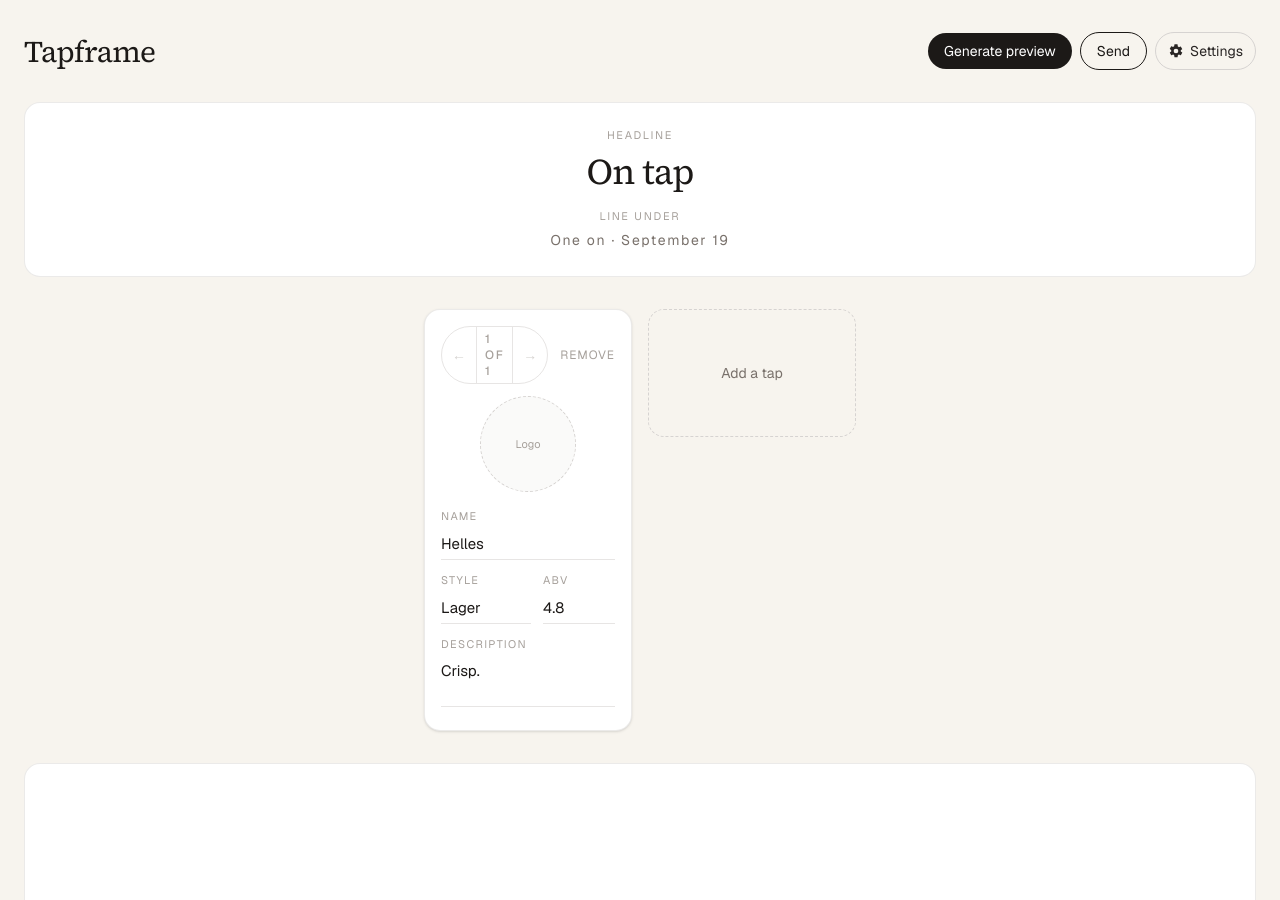
Test: AdminApp › discards display edits if the dialog is cancelled
Click the button "Settings" at [1206, 51], box [1155,32,1256,70]
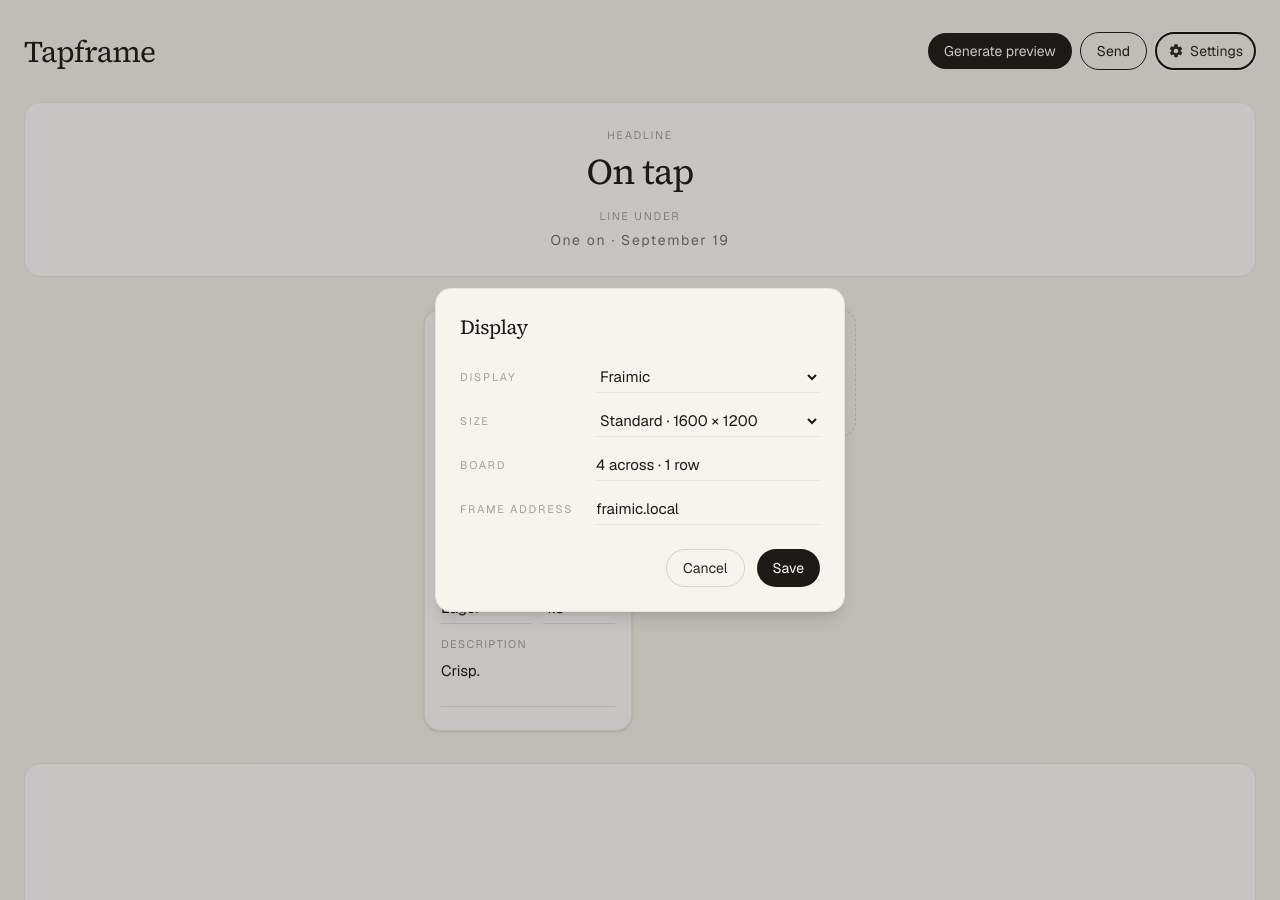
Type "192.168.1.20" into the field named "Frame address" at [708, 509], box [596,493,820,525]
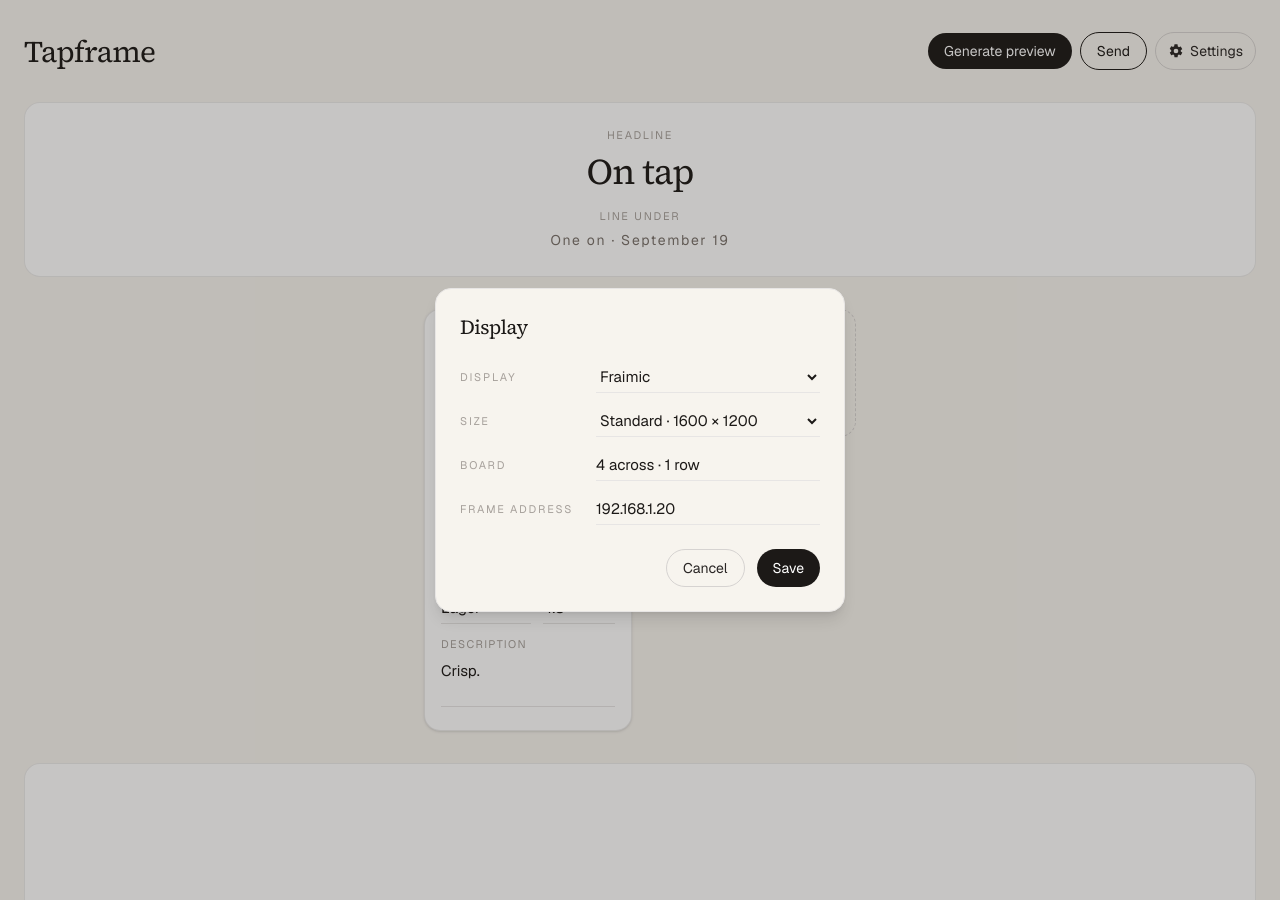
Click the button "Cancel" at [705, 568], box [666,549,744,587]
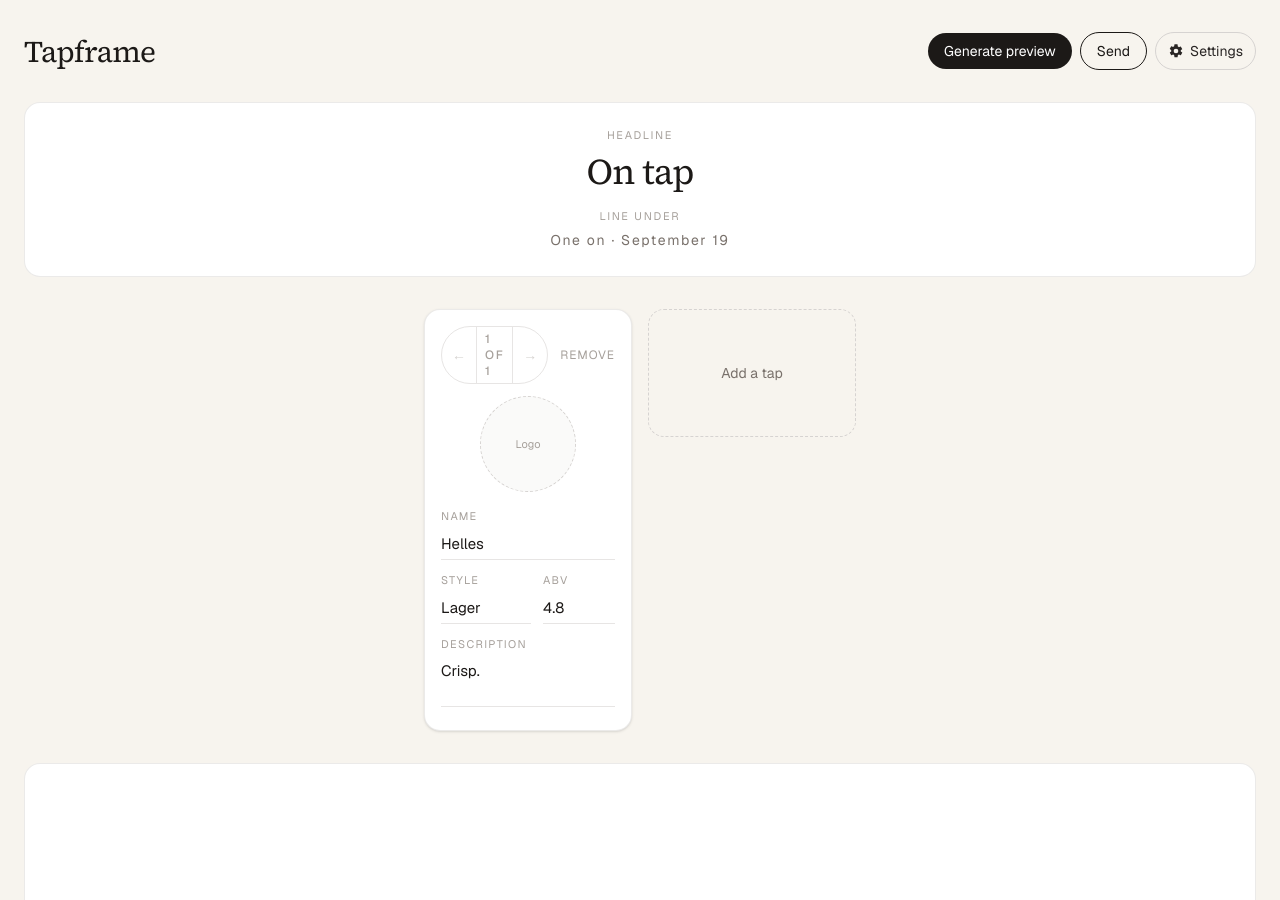
Click the button "Settings" at [1206, 51], box [1155,32,1256,70]
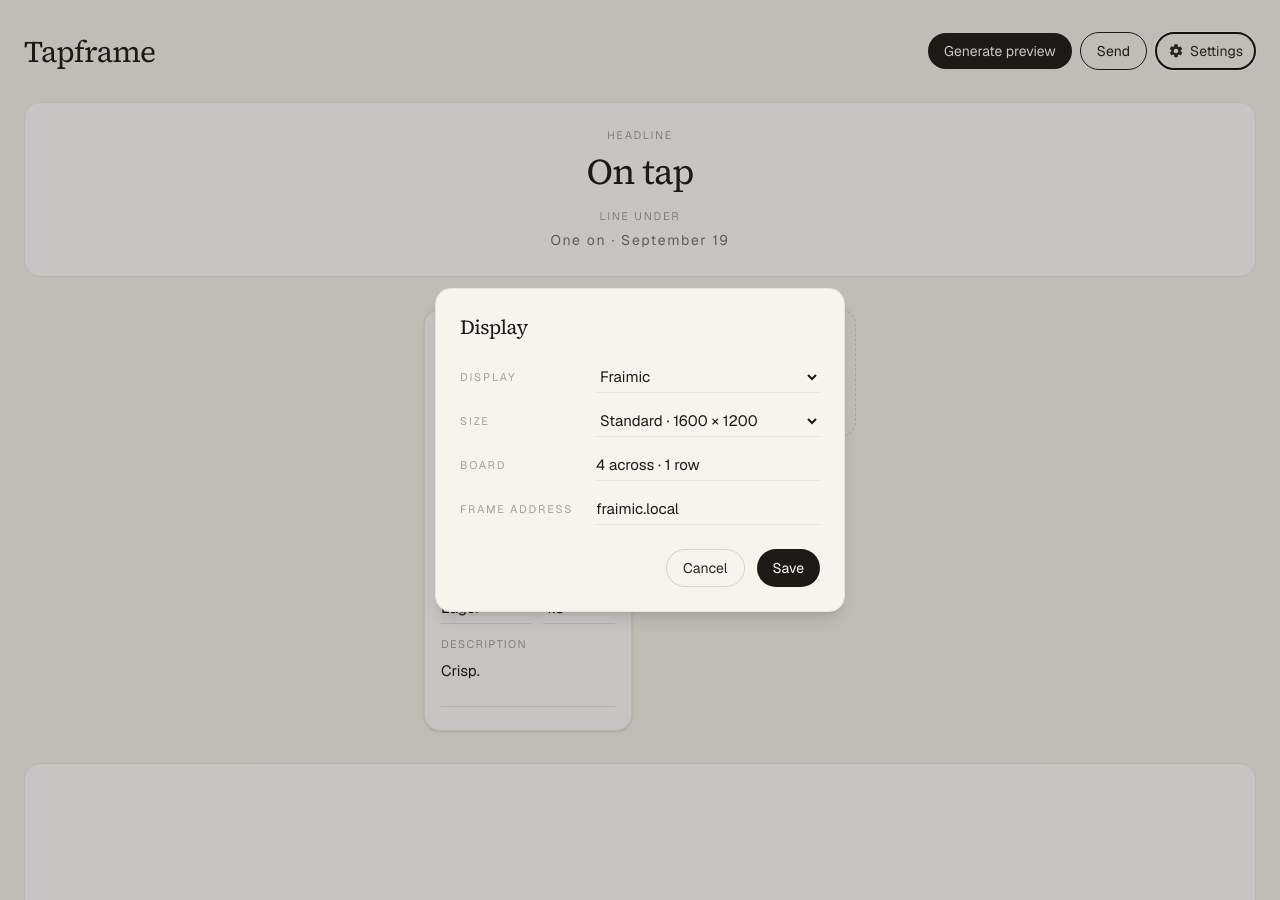
Now the field named "Frame address" holds "fraimic.local", box [596,493,820,525]
